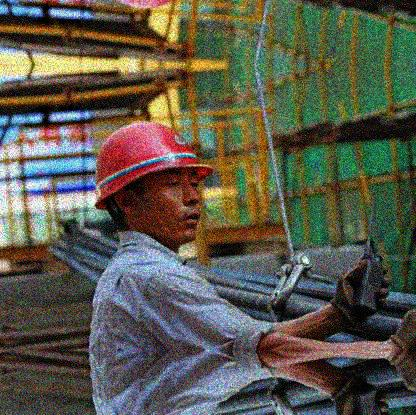helmet: (89, 119, 213, 242)
